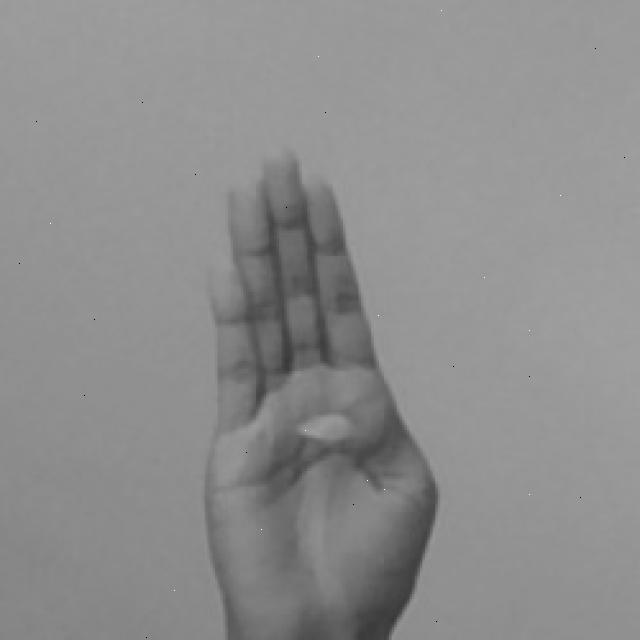B: (206, 145, 441, 640)
